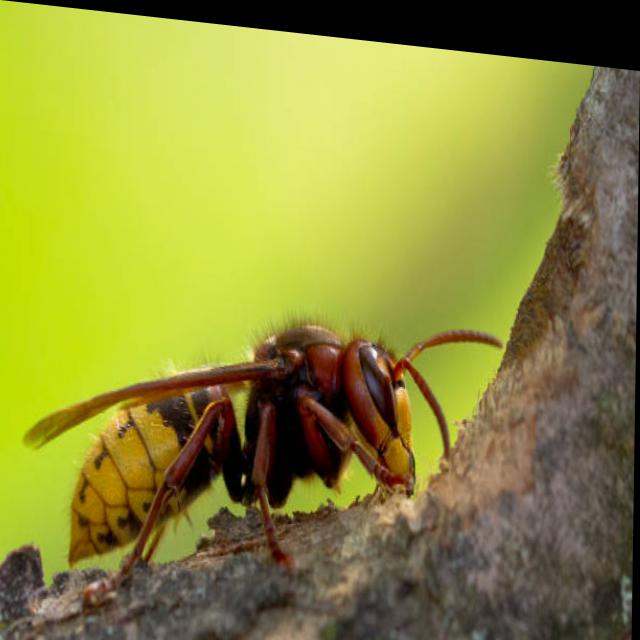Vespa Crabro: (8, 246, 530, 639)
